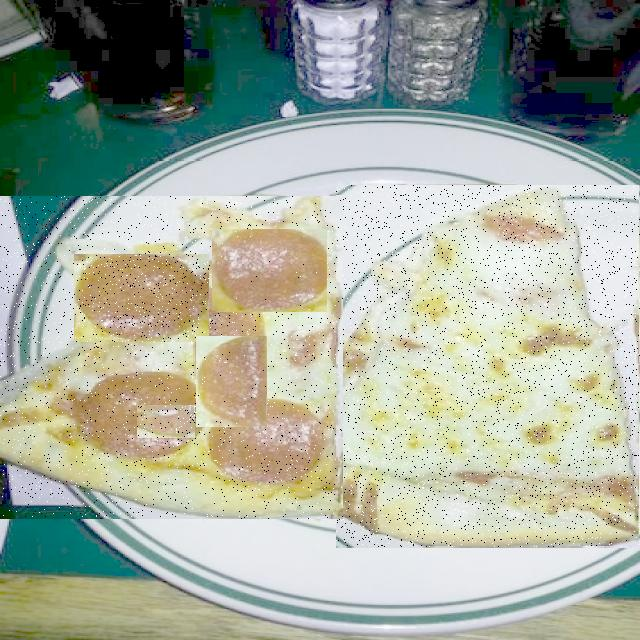Cheese: (372, 266, 604, 371)
Pepperoni: (74, 254, 209, 342), (212, 229, 327, 312), (196, 336, 267, 427), (137, 405, 195, 438)
Pizza: (0, 196, 343, 519), (336, 186, 640, 547)
